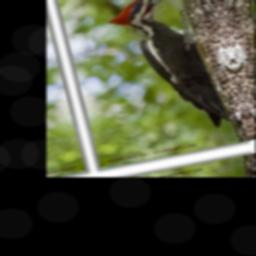Woodpecker: (99, 0, 231, 143)
